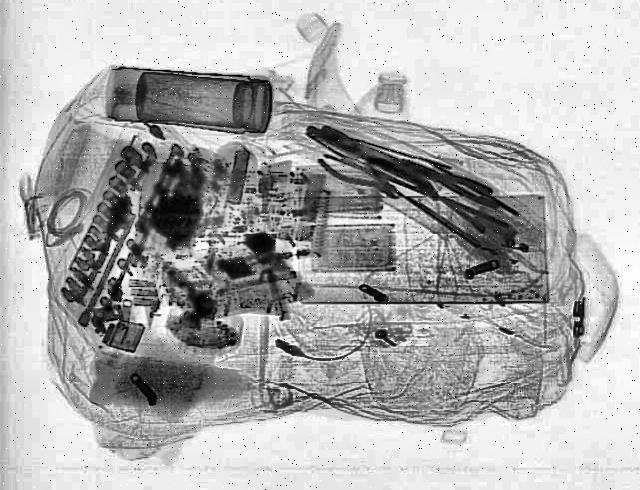Pliers: (308, 142, 412, 208), (397, 154, 508, 214)
